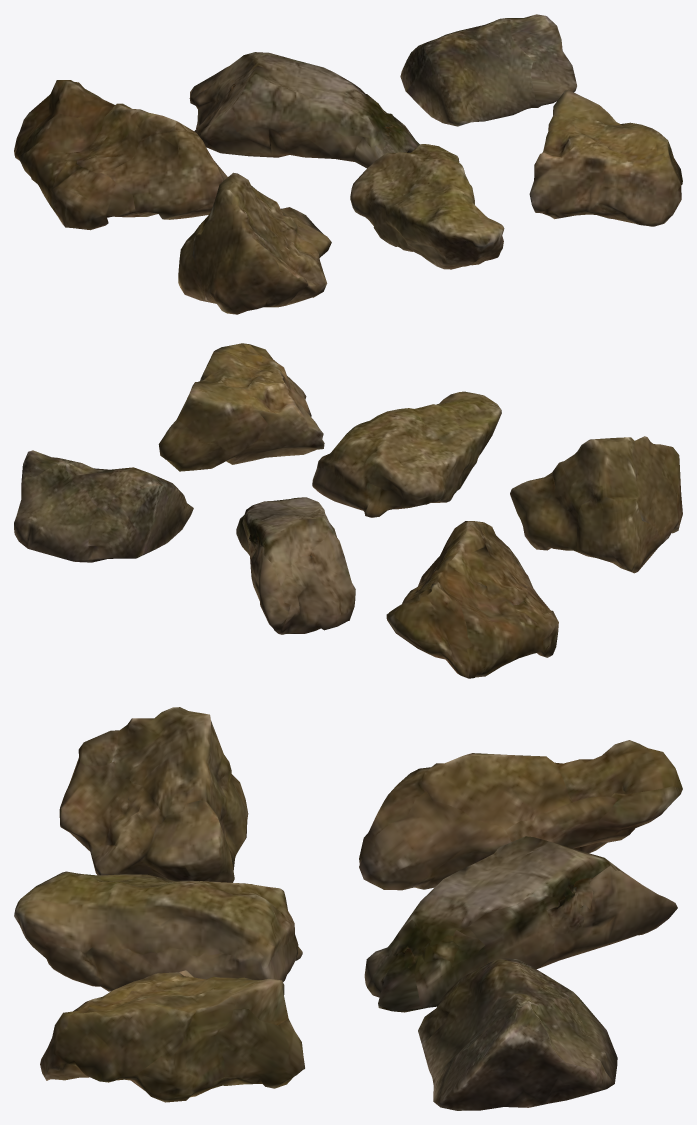
Rendered from rock_moss_set_01.glb.
The picture shows the model from 3 angles, top to bottom: view 1: azimuth 30°, elevation 25°; view 2: azimuth 150°, elevation 25°; view 3: azimuth 270°, elevation 25°; orthographic projection. The views are drawn at different scales.
Parts seen in each view (by area): view 1: rock_moss_set_01_rock01, rock_moss_set_01_rock02, rock_moss_set_01_rock06, rock_moss_set_01_rock04, rock_moss_set_01_rock03, rock_moss_set_01_rock05; view 2: rock_moss_set_01_rock04, rock_moss_set_01_rock01, rock_moss_set_01_rock05, rock_moss_set_01_rock03, rock_moss_set_01_rock06, rock_moss_set_01_rock02; view 3: rock_moss_set_01_rock01, rock_moss_set_01_rock02, rock_moss_set_01_rock05, rock_moss_set_01_rock04, rock_moss_set_01_rock06, rock_moss_set_01_rock03.
Boxes of the visible parts, left/top/right/bottom form: rock_moss_set_01_rock01: left=14, top=80, right=227, bottom=230; rock_moss_set_01_rock02: left=189, top=52, right=419, bottom=168; rock_moss_set_01_rock06: left=529, top=89, right=682, bottom=226; rock_moss_set_01_rock04: left=178, top=172, right=331, bottom=314; rock_moss_set_01_rock03: left=400, top=14, right=576, bottom=126; rock_moss_set_01_rock05: left=350, top=144, right=504, bottom=269; rock_moss_set_01_rock04: left=510, top=436, right=682, bottom=573; rock_moss_set_01_rock01: left=386, top=521, right=558, bottom=678; rock_moss_set_01_rock05: left=312, top=391, right=501, bottom=517; rock_moss_set_01_rock03: left=14, top=450, right=193, bottom=562; rock_moss_set_01_rock06: left=158, top=343, right=324, bottom=471; rock_moss_set_01_rock02: left=236, top=497, right=355, bottom=634; rock_moss_set_01_rock01: left=359, top=740, right=682, bottom=890; rock_moss_set_01_rock02: left=364, top=836, right=677, bottom=1012; rock_moss_set_01_rock05: left=14, top=871, right=302, bottom=991; rock_moss_set_01_rock04: left=59, top=707, right=248, bottom=882; rock_moss_set_01_rock06: left=40, top=970, right=304, bottom=1102; rock_moss_set_01_rock03: left=418, top=958, right=617, bottom=1110.
Size of the model in its own units: 8 by 1.76 by 6.94.
Materials: 1 (1 with a texture image).
